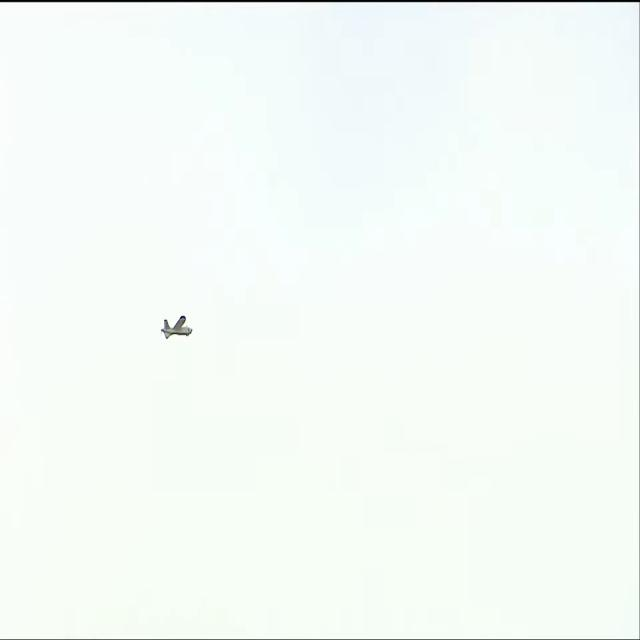iha: (161, 306, 194, 335)
